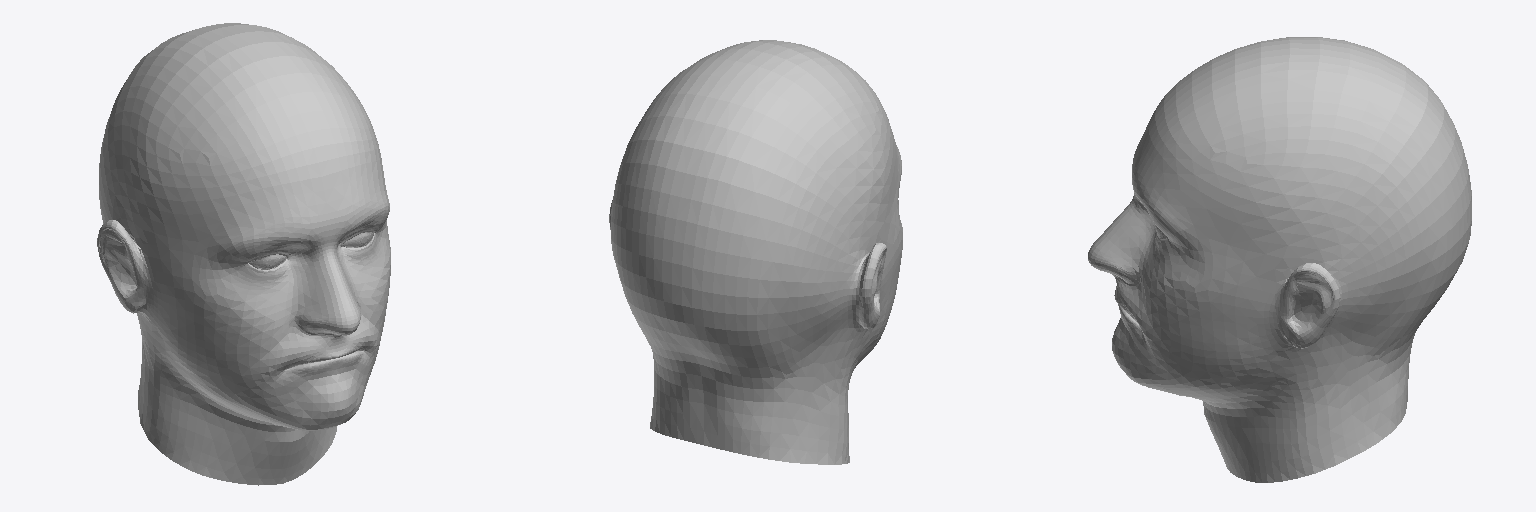
Rendered from MaleFace_ExpressionChinRaised.obj.
3 views of the same model, side by side, from view 1: azimuth 30°, elevation 25°; view 2: azimuth 150°, elevation 25°; view 3: azimuth 270°, elevation 25° (orthographic).
Bounding box in the file's own units: 189 × 283 × 238.